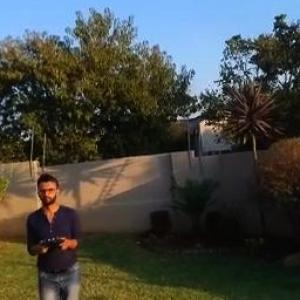follow: (13, 164, 80, 299)
